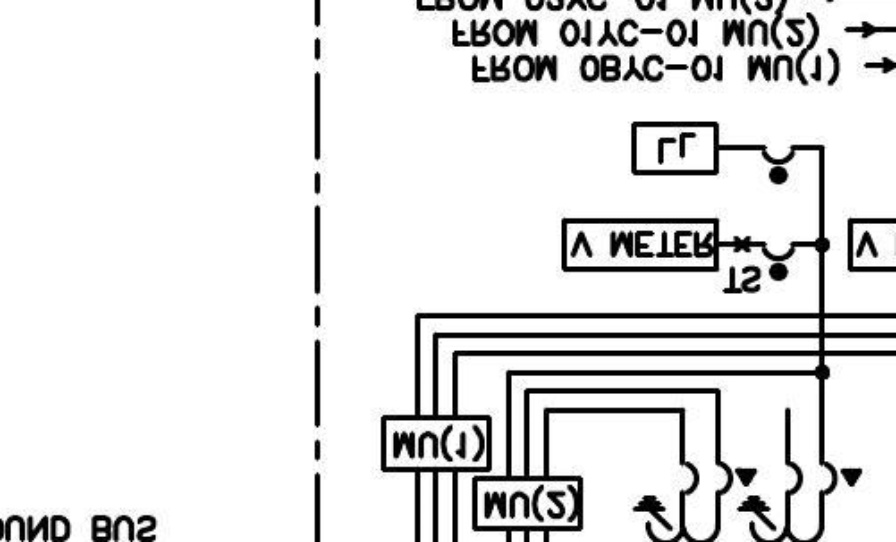LL: (630, 120, 720, 177)
MU: (379, 414, 493, 473), (471, 475, 585, 533)
v_m_digital: (560, 216, 721, 274)
